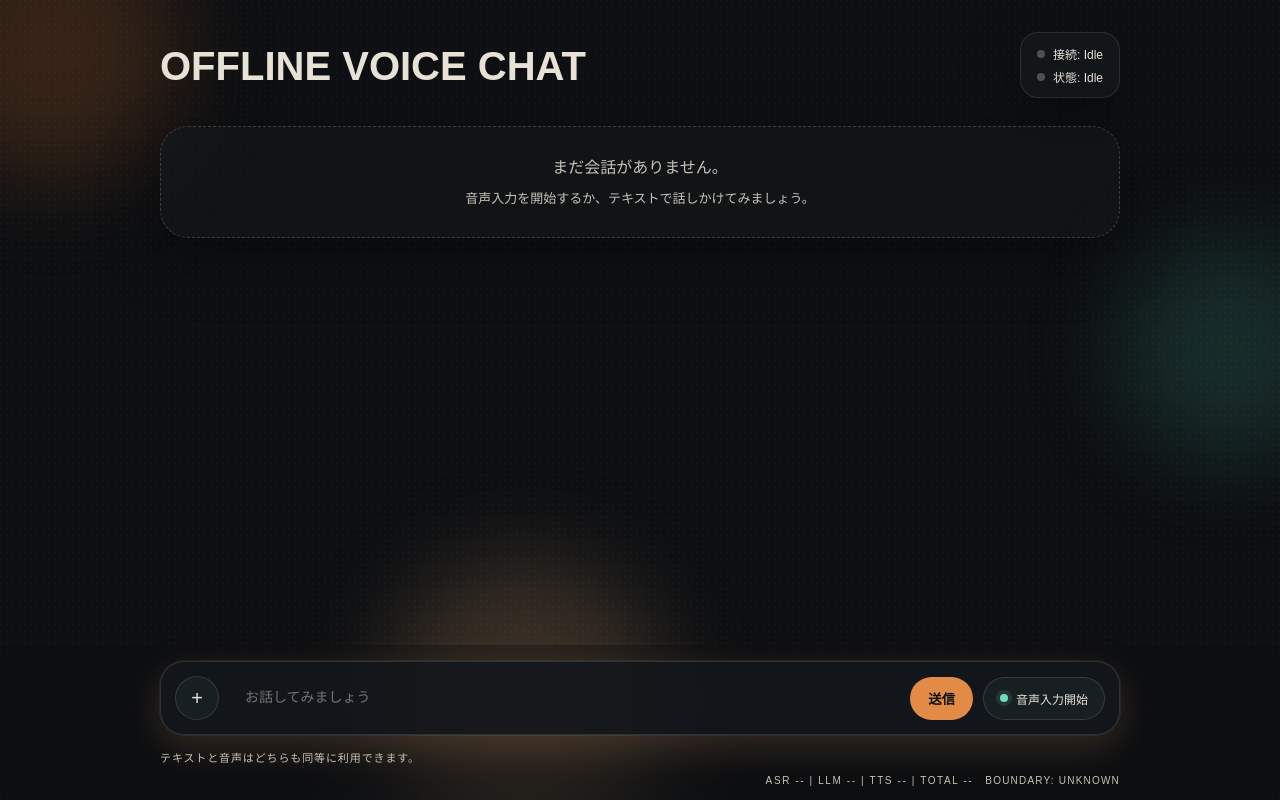
Test: App › shows assistant text response when ASSISTANT_TEXT arrives
Type "hello" into the text box named "メッセージ" at (565, 698), box [229,676,900,720]
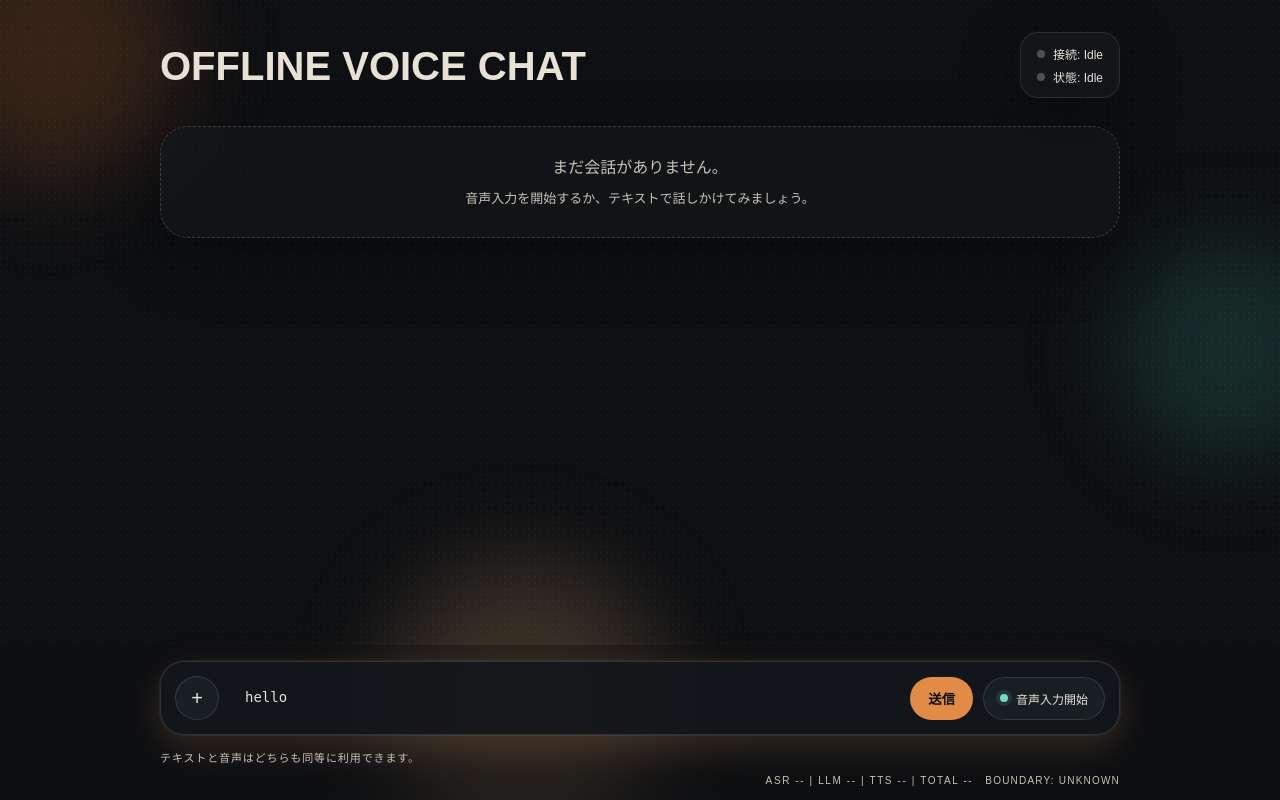
Click the button "送信" at (942, 698), box [910,676,973,720]
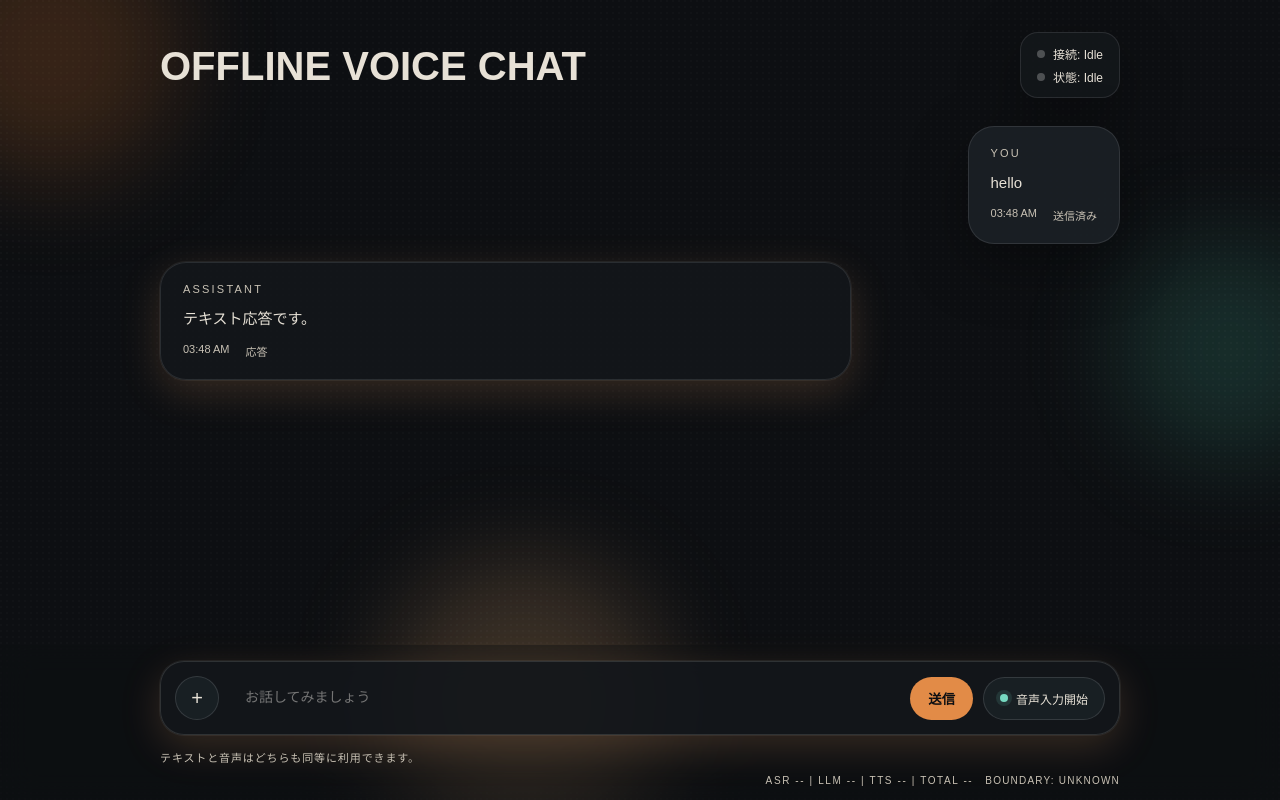
Check: the text "テキスト応答です。" is shown, box [183,310,316,327]
Check: the text "Assistant テキスト応答です。 03:48 AM 応答" is shown, box [160,262,851,380]
Check: the text "応答" is shown, box [246,343,268,359]
